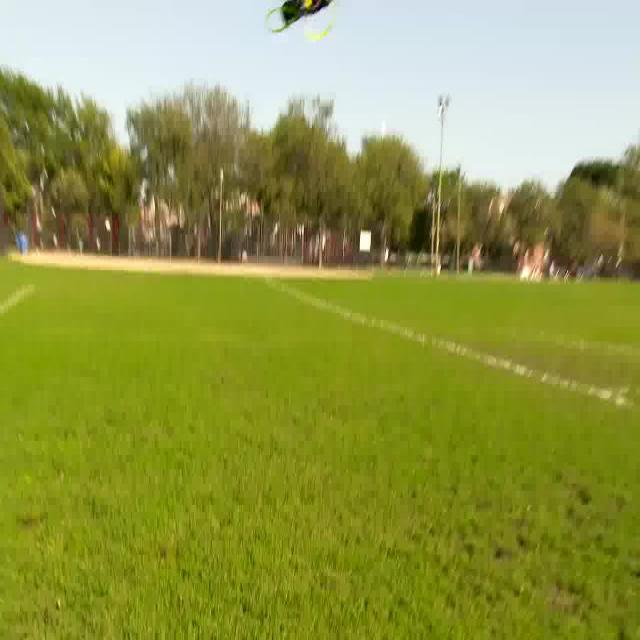drones: (262, 1, 346, 46)
